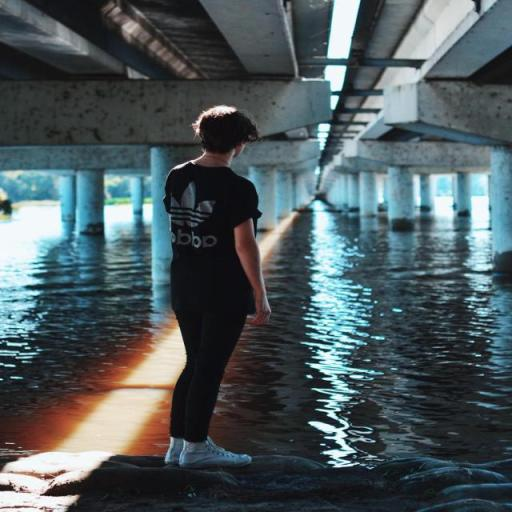Adidas: (161, 180, 217, 246)
